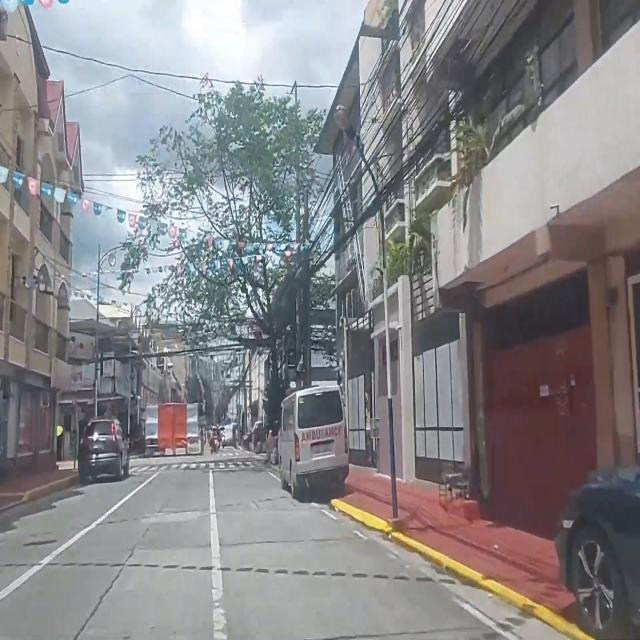car: (554, 466, 640, 636), (278, 382, 348, 502), (78, 416, 131, 484), (241, 420, 268, 452)
motorcycle: (210, 426, 220, 454)
